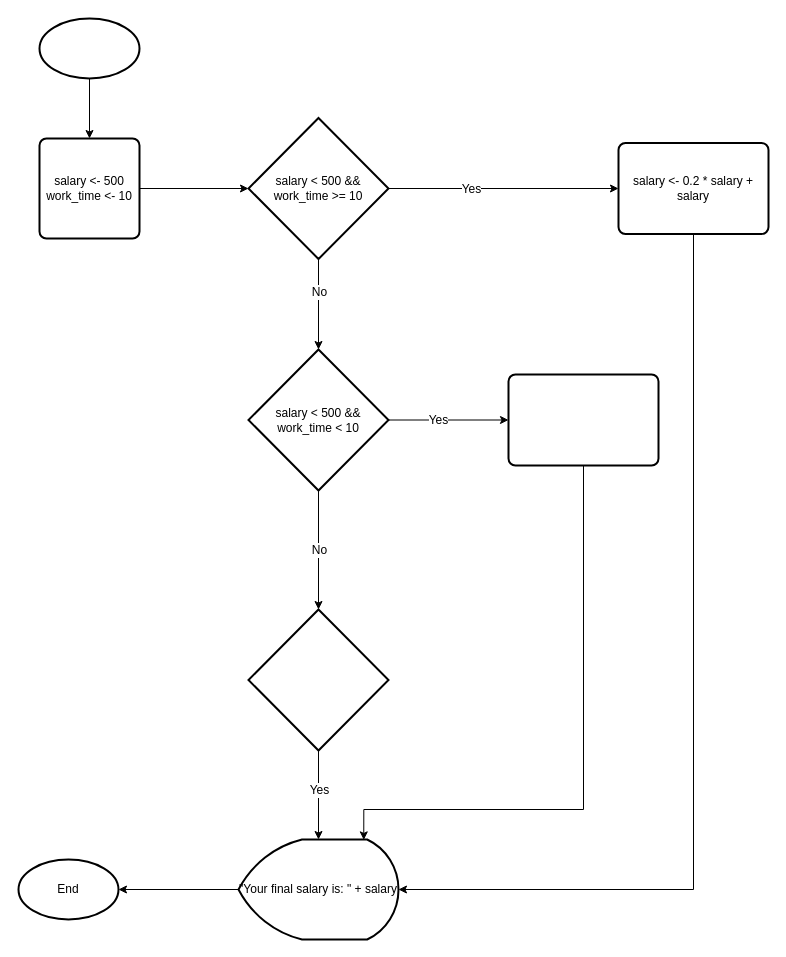
This 786x957 diagram has some shape labels left out. The centre of each missing label's shape, as x and y in pixels:
salary <- 0.05 * salary + salary: point (583, 419)
salary >= 500: point (318, 679)
Start: point (89, 48)
